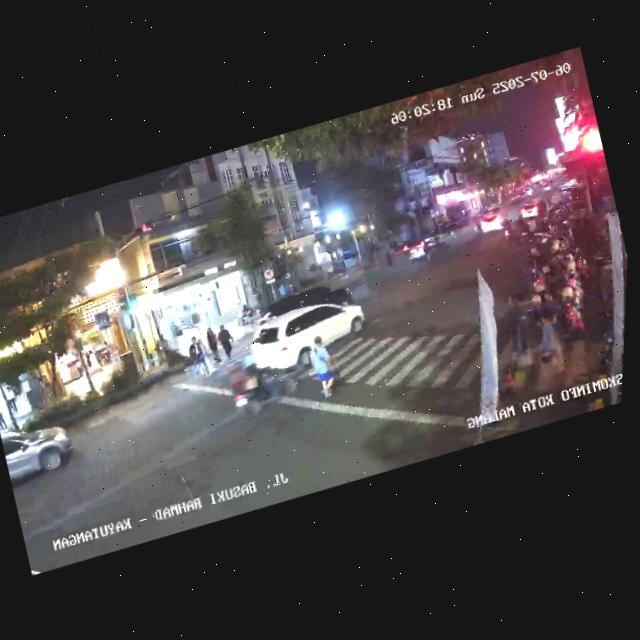car: (241, 288, 375, 385), (253, 276, 357, 340), (0, 412, 80, 488), (400, 228, 455, 268), (478, 210, 509, 236), (517, 200, 548, 224), (521, 185, 535, 199), (540, 182, 554, 193), (520, 190, 530, 202)
motorcycle: (221, 339, 320, 432), (499, 216, 519, 247), (516, 216, 536, 243), (470, 220, 485, 234)
person: (520, 272, 578, 377), (493, 292, 541, 374), (303, 333, 343, 402), (183, 333, 212, 383), (212, 321, 239, 364), (194, 335, 217, 376), (203, 324, 224, 365), (0, 384, 20, 417), (0, 398, 10, 431)
